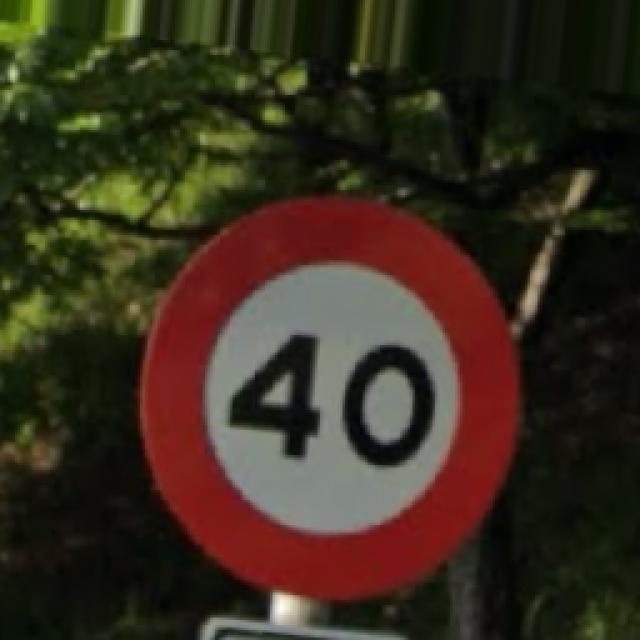Speed Limit -40-: (140, 198, 515, 595)
